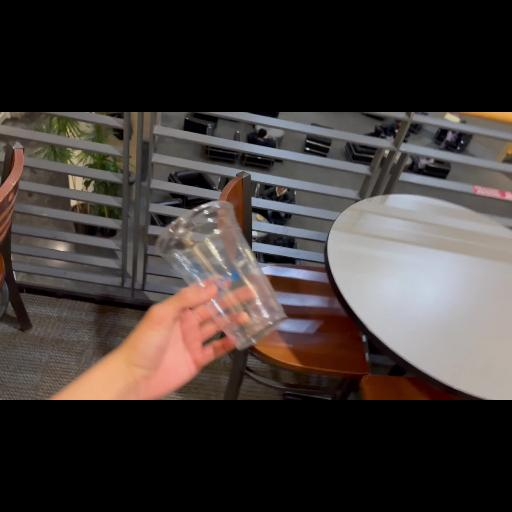lp_plastic_cup: (154, 201, 286, 351)
